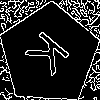K: (24, 29, 78, 83)
